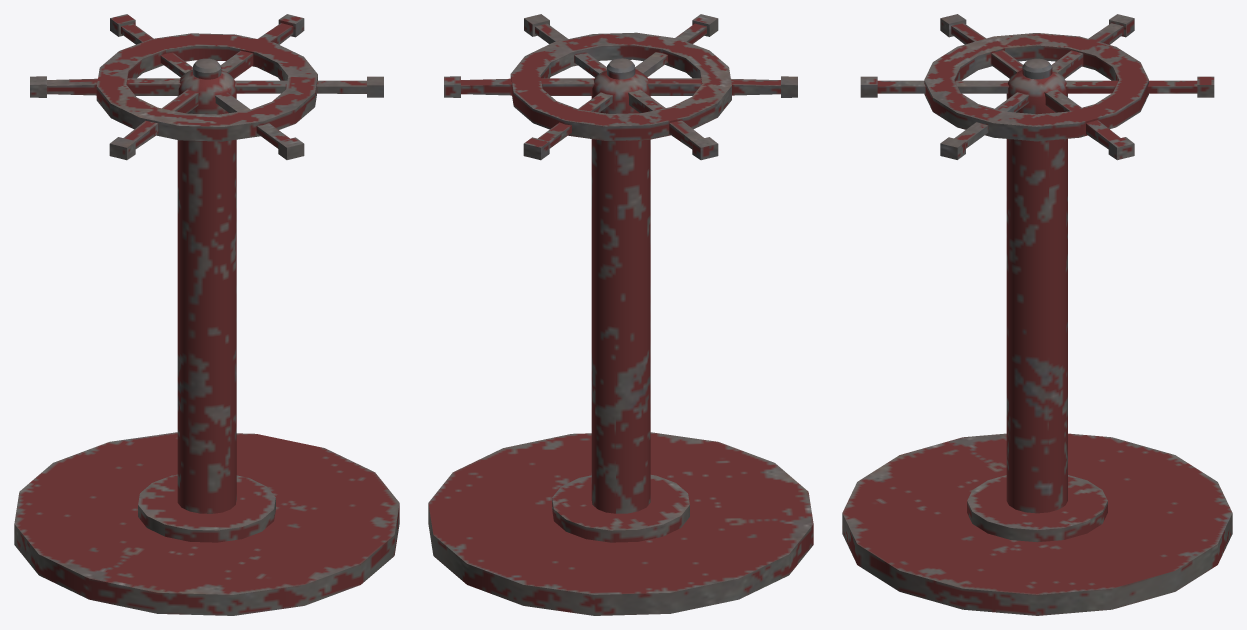
The model's file is Crane Helm.fbx.
The picture shows the model from 3 angles, left to right: view 1: azimuth 30°, elevation 25°; view 2: azimuth 150°, elevation 25°; view 3: azimuth 270°, elevation 25°; orthographic projection.
Visible parts, largest first — view 1: Cylinder.009; view 2: Cylinder.009; view 3: Cylinder.009.
Boxes of the visible parts, left/top/right/bottom form: Cylinder.009: left=14, top=14, right=399, bottom=615; Cylinder.009: left=428, top=14, right=813, bottom=615; Cylinder.009: left=842, top=14, right=1232, bottom=615.
Bounding box in the file's own units: 62.28 × 83.56 × 62.64.
